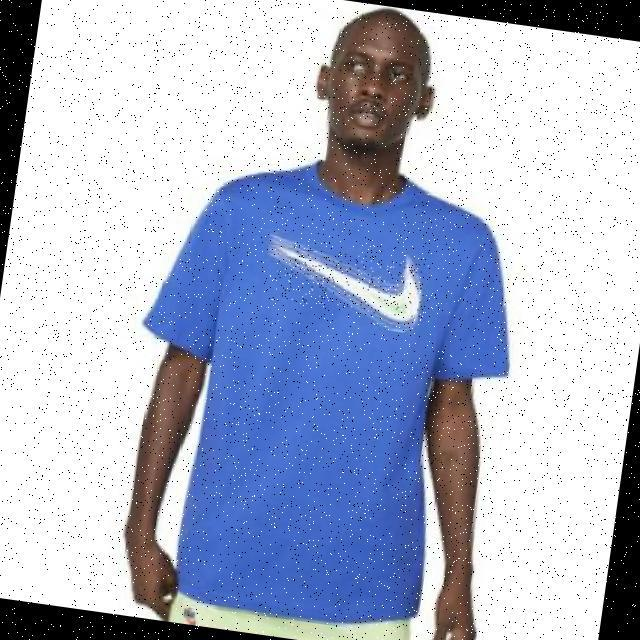Nike: (270, 243, 429, 321), (374, 292, 409, 314)
